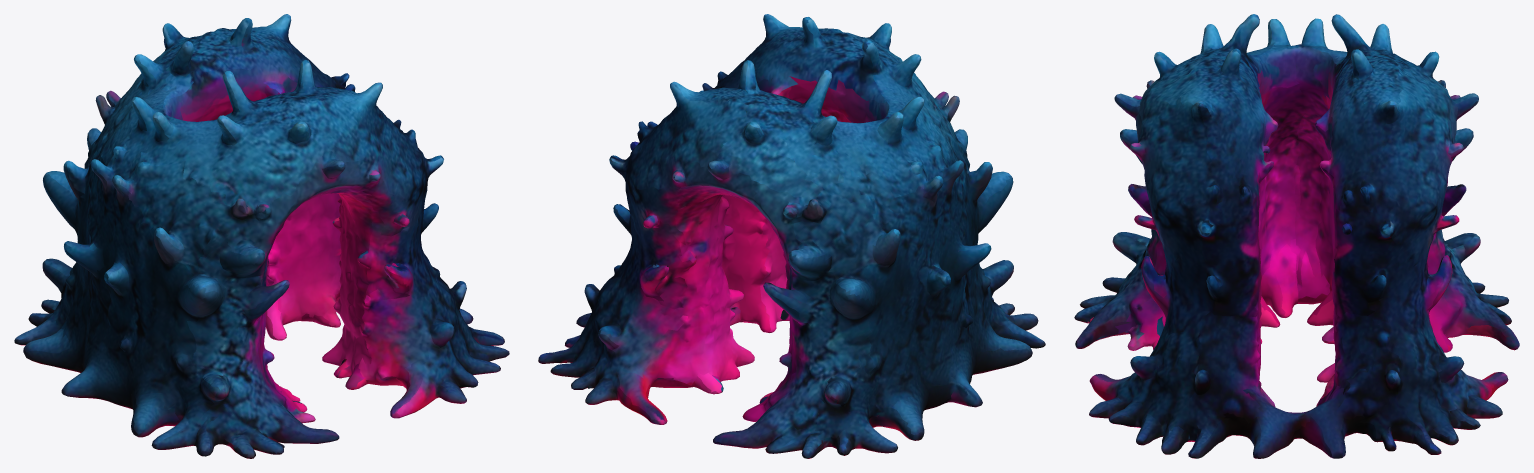
Rendered from tunnel-root-3-generated-2026-05-17T19-25-33-271Z.high.glb.
3 views of the same model, side by side, from view 1: azimuth 30°, elevation 25°; view 2: azimuth 150°, elevation 25°; view 3: azimuth 270°, elevation 25° (orthographic). The views are drawn at different scales.
Parts seen in each view (by area): view 1: temp_mesh.ply; view 2: temp_mesh.ply; view 3: temp_mesh.ply.
Boxes of the visible parts, x1=… form: temp_mesh.ply: x1=14, y1=14, x2=509, y2=458; temp_mesh.ply: x1=538, y1=14, x2=1045, y2=458; temp_mesh.ply: x1=1074, y1=14, x2=1519, y2=458.
Bounding box in the file's own units: 1.97 × 1.53 × 1.91.
Materials: 1 (1 with a texture image).
